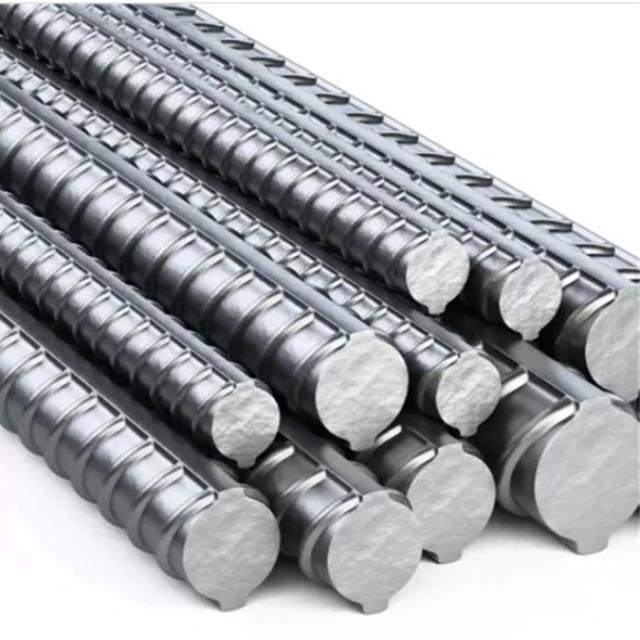Rebar: (527, 408, 640, 565), (307, 486, 417, 609), (395, 446, 502, 571), (178, 491, 279, 612), (312, 345, 417, 441), (429, 343, 503, 436), (586, 285, 640, 401), (399, 233, 471, 314), (216, 383, 285, 463), (499, 262, 565, 340)
